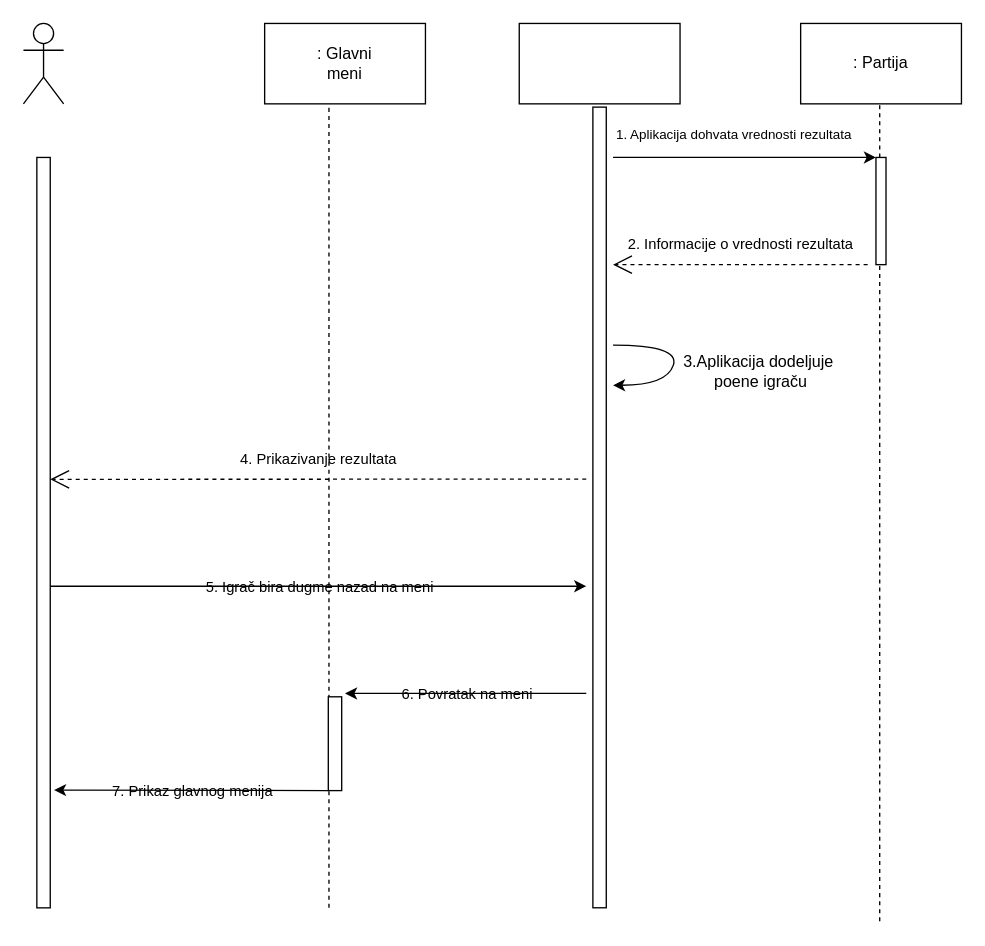
Image size: 985x946. Some labels were removed from this diagram. Here are the shapes that lost their labels. From the top down, the box of each, then its label:
(22, 22, 64, 104): Igrač
(518, 22, 680, 104): : Aplikacija
